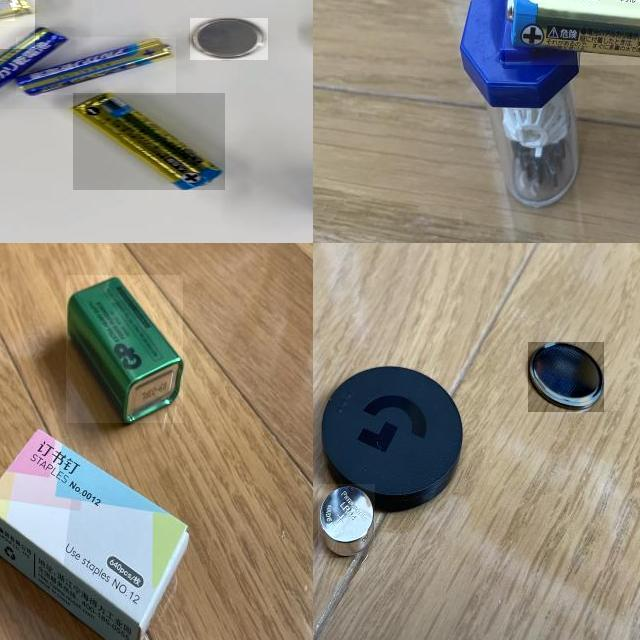9V: (66, 275, 183, 423)
